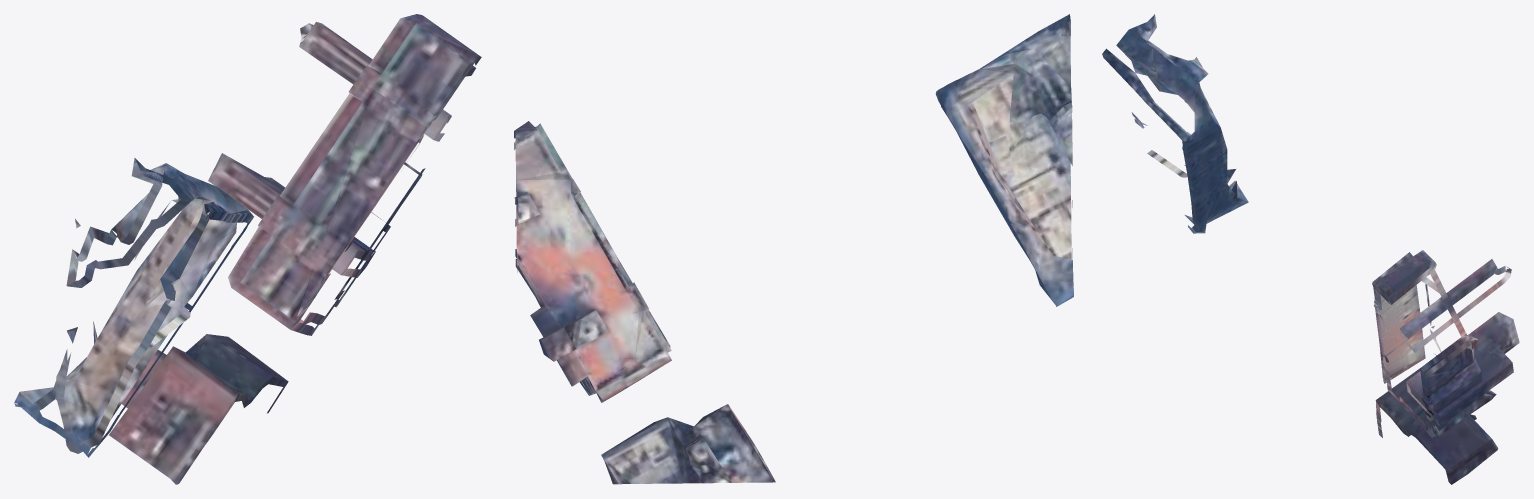
The picture shows the model from 3 angles, left to right: view 1: azimuth 30°, elevation 25°; view 2: azimuth 150°, elevation 25°; view 3: azimuth 270°, elevation 25°; orthographic projection. The views are drawn at different scales.
Bounding box in the file's own units: 68.36 × 56.46 × 60.47.
Materials: 1 (1 with a texture image).
